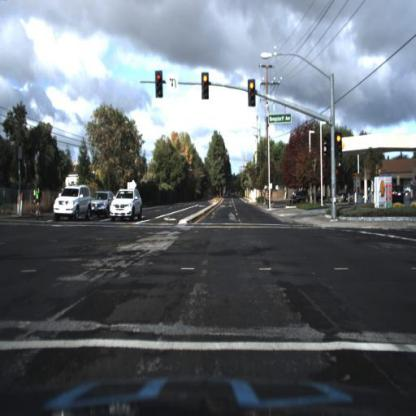car: (55, 185, 94, 223), (111, 189, 143, 222), (92, 192, 117, 218)
pedestrian: (35, 182, 43, 222)
trafficLight-Red: (203, 73, 211, 102), (157, 71, 165, 100), (250, 80, 258, 108)
